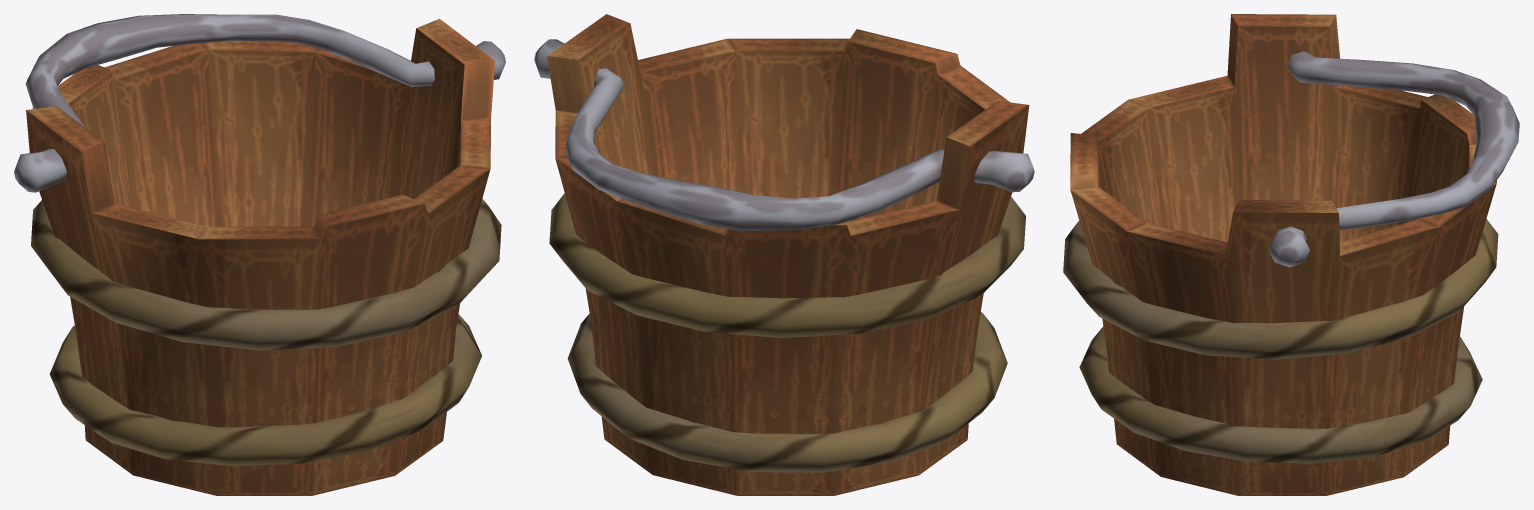
File: Bucket_Wooden_1.gltf
3 renders of one model, left to right at view 1: azimuth 30°, elevation 25°; view 2: azimuth 150°, elevation 25°; view 3: azimuth 270°, elevation 25°, orthographic. The views are drawn at different scales.
Parts seen in each view (by area): view 1: Bucket_Wooden_1; view 2: Bucket_Wooden_1; view 3: Bucket_Wooden_1.
Part boxes in pixels (left/top/right/bottom): Bucket_Wooden_1: left=14, top=14, right=505, bottom=495; Bucket_Wooden_1: left=534, top=14, right=1034, bottom=495; Bucket_Wooden_1: left=1063, top=14, right=1519, bottom=495.
Size of the model in its own units: 0.4339 by 0.2928 by 0.3835.
Materials: 2 (2 with a texture image).
